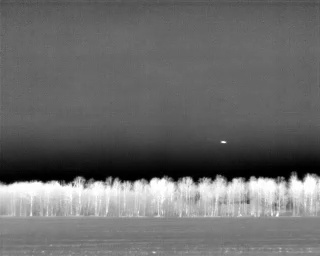DRONE: (218, 136, 230, 147)
